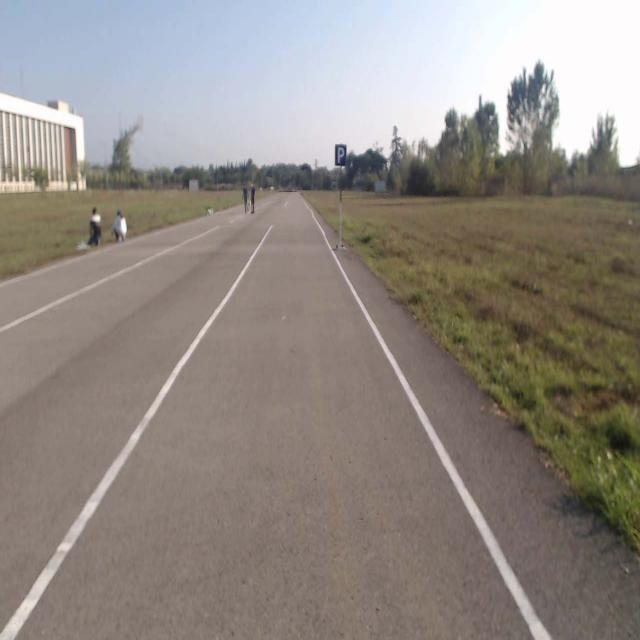park: (335, 144, 346, 165)
